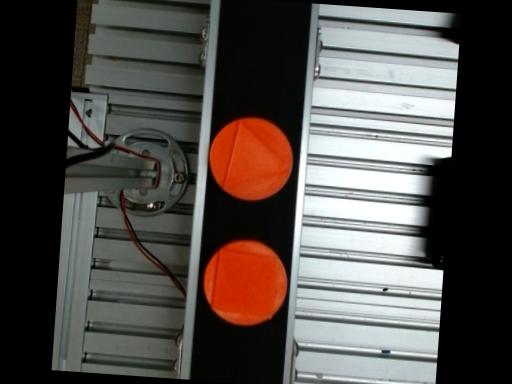Not_Square: (224, 118, 289, 188)
Orange_Waper: (204, 239, 286, 325), (210, 116, 293, 200)
Square: (210, 247, 280, 316)
